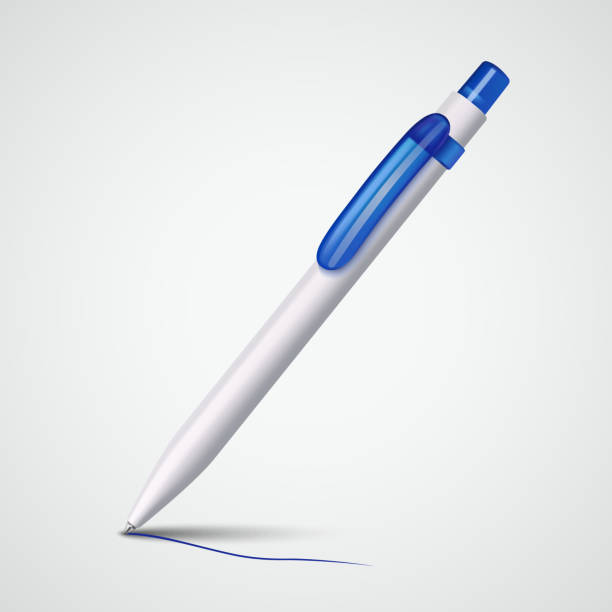pen: (110, 51, 514, 539)
